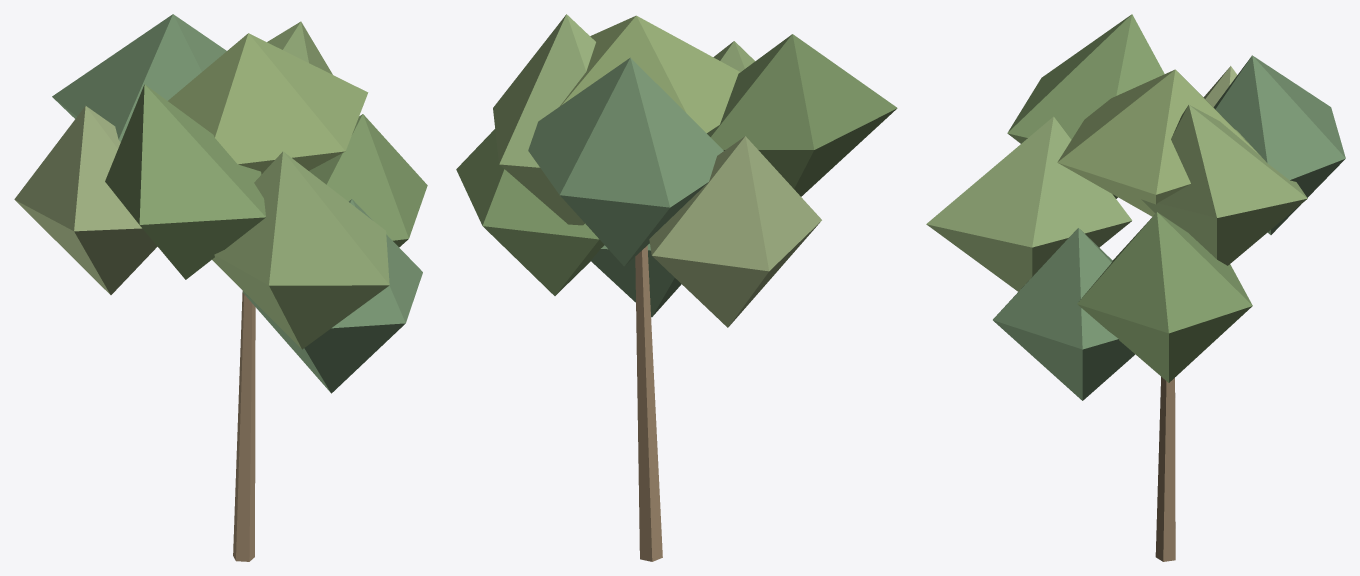
The picture shows the model from 3 angles, left to right: view 1: azimuth 30°, elevation 25°; view 2: azimuth 150°, elevation 25°; view 3: azimuth 270°, elevation 25°; orthographic projection. The views are drawn at different scales.
Bounding box in the file's own units: 9.23 × 12.85 × 9.93.
